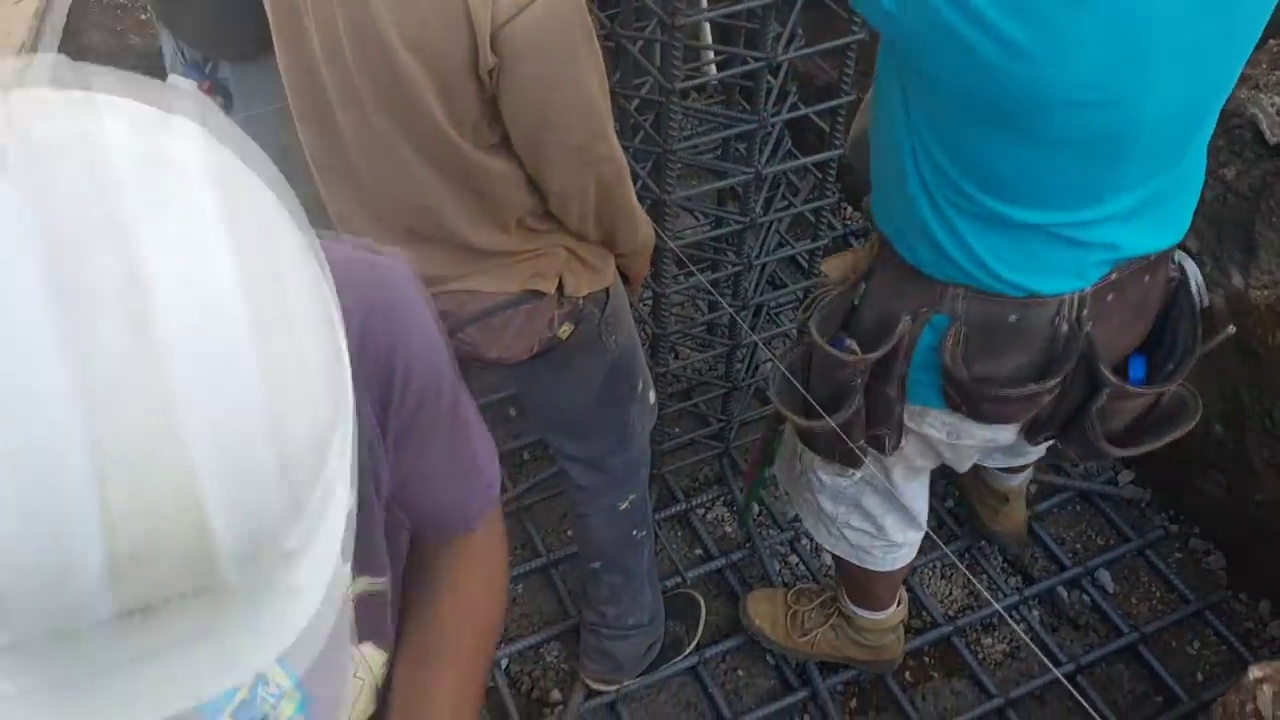helmet: (0, 84, 364, 716)
person: (738, 6, 1273, 671), (0, 86, 516, 720), (265, 3, 712, 695)
